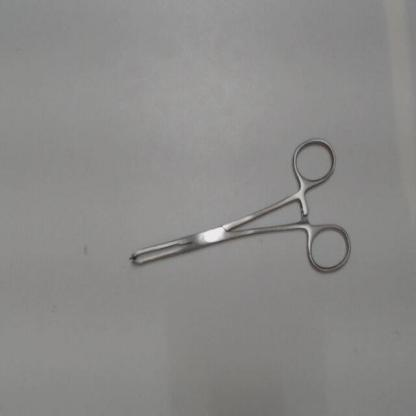Allis Tissue Forceps: (119, 126, 358, 282)
